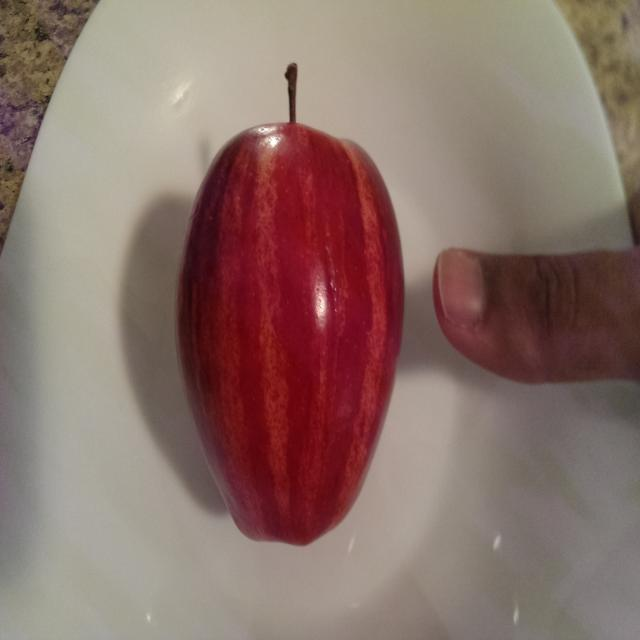apple: (162, 53, 409, 567)
